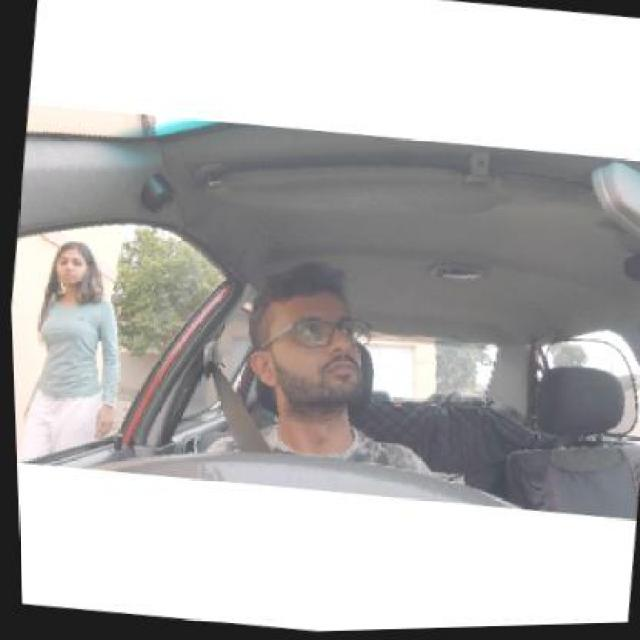person: (242, 258, 380, 422)
